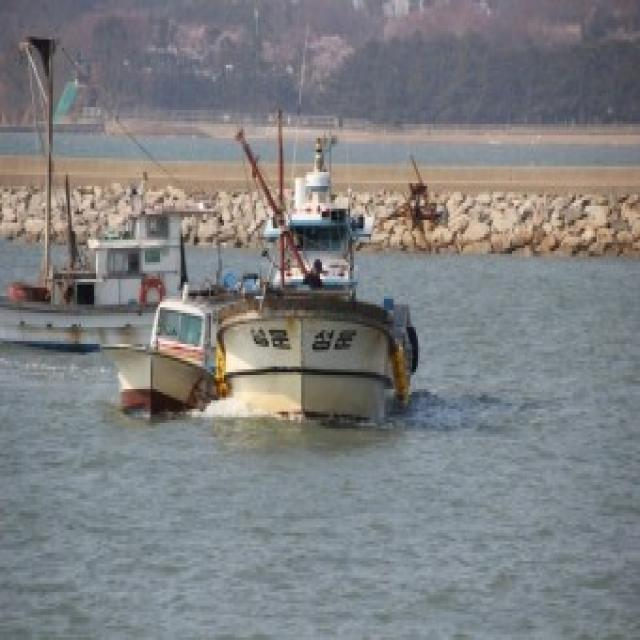Ship: (223, 176, 428, 444), (1, 198, 231, 362), (93, 294, 221, 427)
